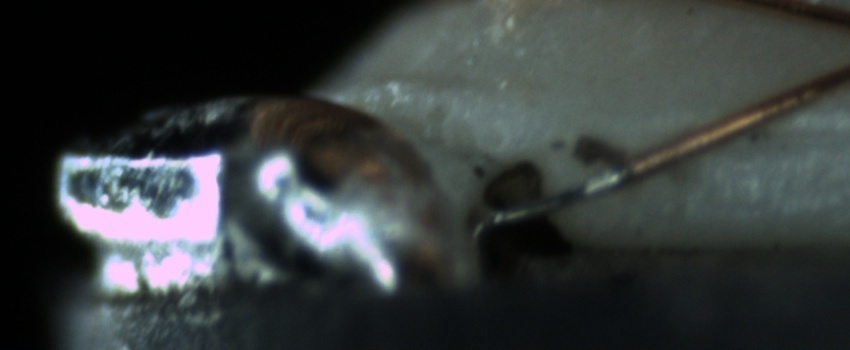DL: (727, 103, 850, 172)
TS: (488, 161, 633, 227)
